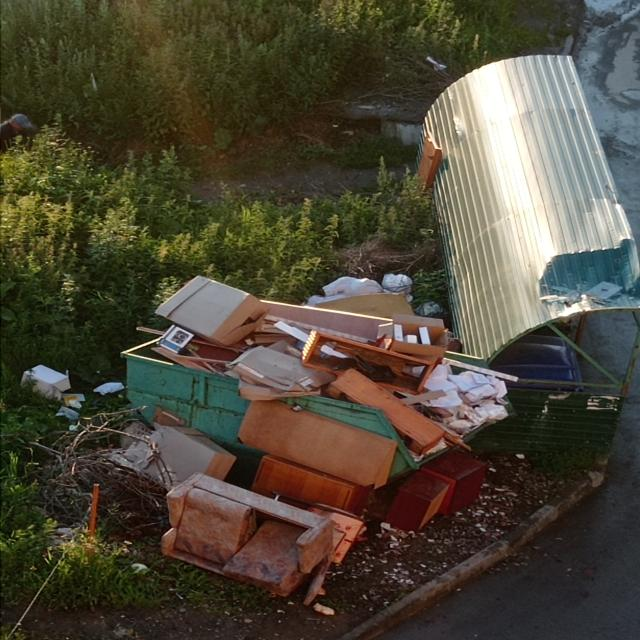plastic: (13, 269, 515, 599)
